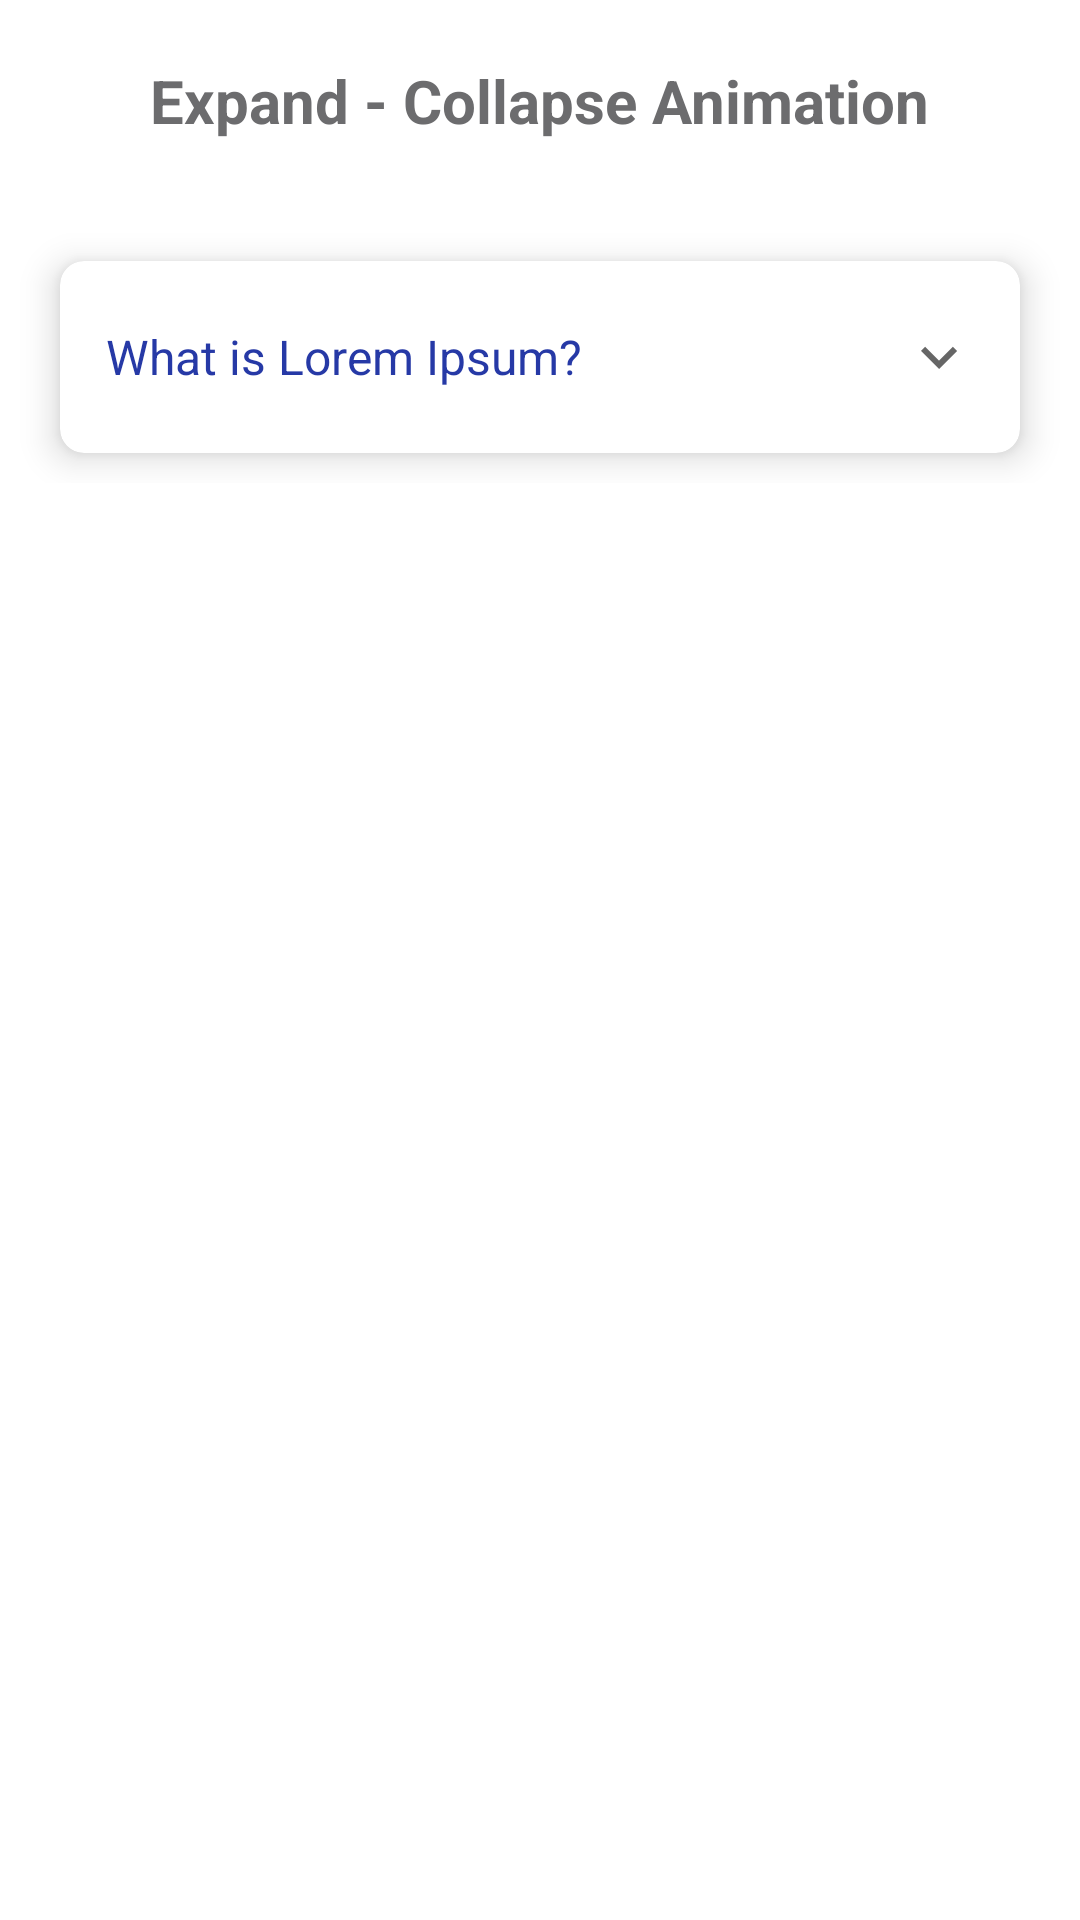

Point at icon controls on the screen. Image size 1080w x 1920h, points as point (x, y).
keyboard arrow down: point (939, 358)
